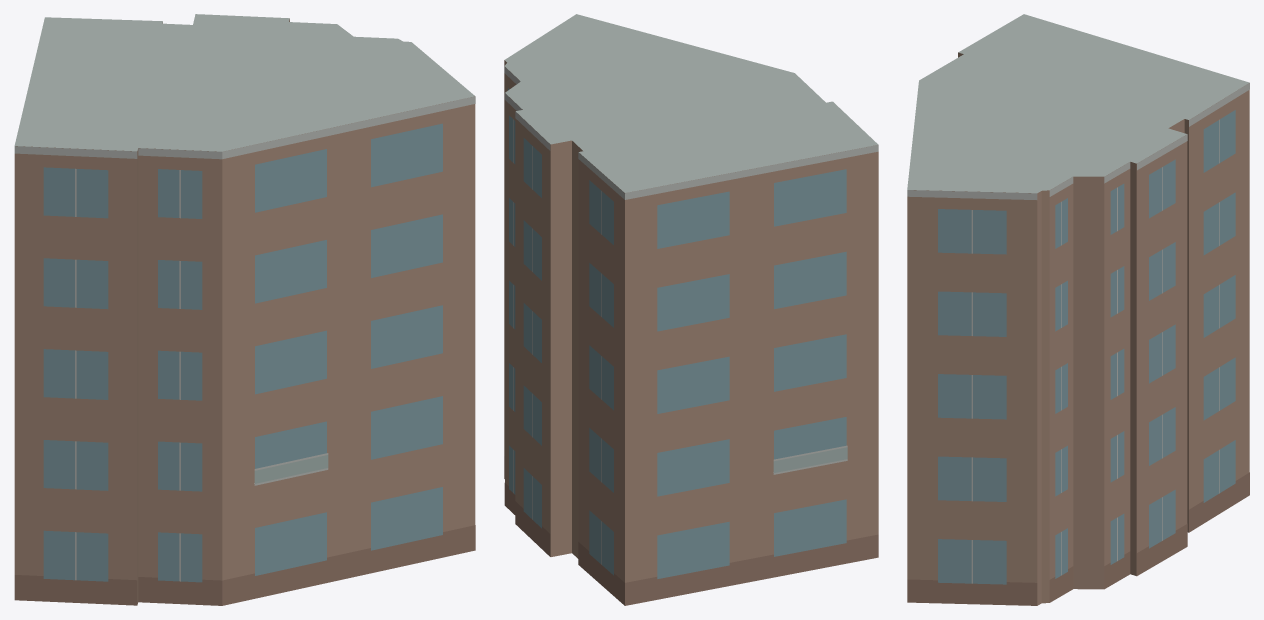
Rendered from survey-upis-32730083.glb.
3 renders of one model, left to right at view 1: azimuth 30°, elevation 25°; view 2: azimuth 150°, elevation 25°; view 3: azimuth 270°, elevation 25°, orthographic. The views are drawn at different scales.
Visible parts, largest first — view 1: survey-upis-32730083.tmp; view 2: survey-upis-32730083.tmp; view 3: survey-upis-32730083.tmp.
Part boxes in pixels (x1,y1,x2,y2): survey-upis-32730083.tmp: (14, 14, 475, 605); survey-upis-32730083.tmp: (504, 14, 878, 605); survey-upis-32730083.tmp: (907, 14, 1249, 605).
Size of the model in its own units: 13.61 by 14.6 by 11.
